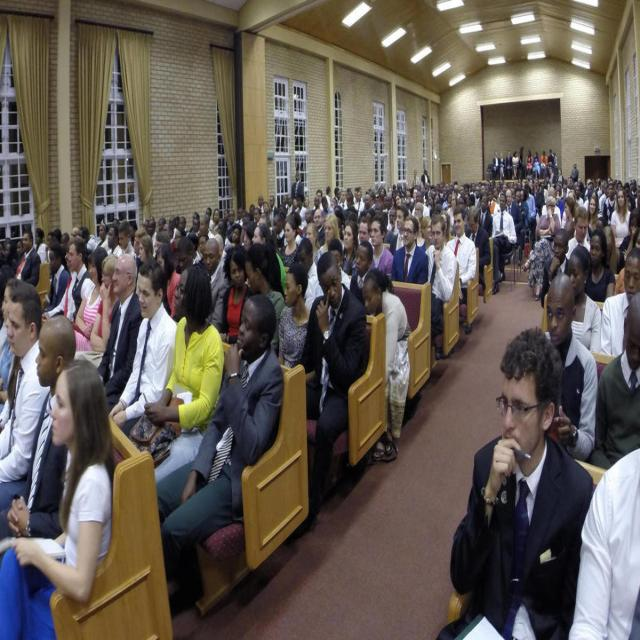body: (435, 325, 594, 640), (154, 292, 284, 607), (0, 357, 113, 640), (125, 260, 226, 525), (298, 250, 367, 514), (0, 313, 78, 542), (566, 444, 639, 640), (107, 256, 178, 439), (0, 282, 52, 513), (360, 266, 413, 464), (544, 271, 598, 462), (595, 291, 640, 471), (96, 253, 143, 413), (88, 209, 195, 261), (72, 253, 119, 369), (599, 246, 640, 358), (521, 194, 562, 302), (424, 212, 458, 342), (71, 246, 109, 352), (566, 244, 602, 355), (423, 210, 455, 332), (247, 191, 282, 299), (291, 186, 373, 232), (277, 263, 310, 369), (218, 245, 252, 345), (0, 225, 19, 402), (40, 238, 78, 325), (444, 207, 477, 306), (194, 204, 247, 260), (200, 237, 229, 338), (490, 191, 518, 295), (390, 214, 429, 286), (582, 227, 616, 304), (372, 177, 433, 219), (565, 174, 640, 208), (540, 228, 570, 310), (464, 206, 491, 295), (296, 236, 325, 313), (43, 242, 69, 314), (432, 175, 478, 214), (349, 240, 374, 310), (13, 228, 42, 288), (368, 218, 394, 280), (292, 230, 372, 248), (565, 205, 591, 260), (326, 237, 352, 292), (162, 252, 184, 315), (610, 187, 632, 247), (618, 206, 640, 264), (278, 212, 300, 268), (504, 188, 524, 249), (597, 216, 618, 268), (41, 224, 88, 247), (584, 194, 604, 248), (514, 190, 528, 267), (477, 178, 525, 200), (540, 186, 562, 228), (477, 193, 492, 239), (603, 182, 617, 227), (522, 182, 536, 225), (10, 238, 25, 278), (565, 188, 578, 234), (418, 215, 434, 252), (385, 218, 402, 252), (34, 226, 49, 264), (547, 183, 566, 213), (282, 192, 292, 248), (414, 210, 425, 250), (291, 170, 305, 200), (524, 178, 547, 196), (421, 169, 432, 205), (613, 266, 624, 296), (487, 190, 498, 217), (567, 160, 579, 183), (504, 148, 513, 178), (532, 150, 541, 180), (538, 150, 547, 179), (525, 148, 533, 180), (547, 166, 556, 190), (413, 202, 425, 220), (498, 152, 505, 181), (512, 150, 518, 180), (513, 189, 523, 207), (518, 145, 524, 171), (492, 151, 501, 168), (546, 147, 554, 165), (412, 168, 420, 185), (556, 168, 564, 184), (552, 152, 557, 167)
